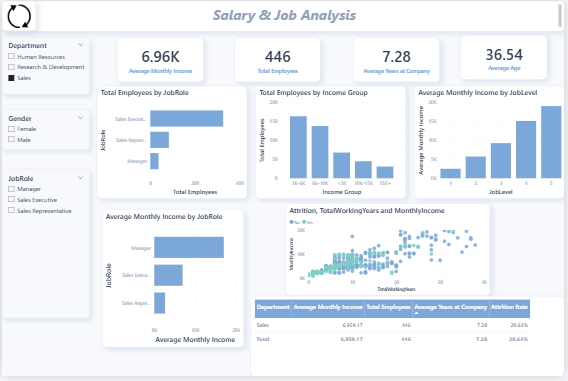

What the dashboard file says about the page in this screenshot:
{"tool":"powerbi","page":{"name":"Salary Analysis","canvas":[1500,1000],"ordinal":1},"visuals":[{"type":"card","fields":{"Values":["HR.Total Employees"]},"box":[619.9,95.3,229.1,119.4],"z":0},{"type":"card","fields":{"Values":["HR.Average Monthly Income"]},"box":[307.5,95.3,230.4,119.4],"z":1000},{"type":"card","fields":{"Values":["HR.Average Years at Company"]},"box":[935.9,95.3,230.4,119.4],"z":2000},{"type":"card","fields":{"Values":["HR.Average Age"]},"box":[1222.9,91.7,230.4,119.4],"z":3000},{"type":"clusteredColumnChart","fields":{"Category":["HR.Income Group"],"Y":["HR.Total Employees"]},"box":[678,226,400,300],"z":4000},{"type":"clusteredBarChart","fields":{"Category":["HR.JobRole"],"Y":["HR.Average Monthly Income"]},"box":[266,556,378,366],"z":5000},{"type":"clusteredColumnChart","fields":{"Category":["HR.JobLevel"],"Y":["HR.Average Monthly Income"]},"box":[1100,228,400,300],"z":6000},{"type":"scatterChart","fields":{"X":["HR.TotalWorkingYears"],"Y":["HR.MonthlyIncome"],"Series":["HR.Attrition"]},"box":[756,540,544,246],"z":7000},{"type":"tableEx","fields":{"Values":["HR.Department","HR.Average Monthly Income","HR.Total Employees","HR.Average Years at Company","HR.Attrition Rate"]},"box":[664,786,836,214],"z":8000},{"type":"clusteredBarChart","fields":{"Category":["HR.JobRole"],"Y":["HR.Total Employees"]},"box":[254.6,226.1,400,300],"z":9000},{"type":"slicer","fields":{"Values":["HR.Department"]},"box":[0,95,233.3,151.7],"z":10000},{"type":"slicer","fields":{"Values":["HR.Gender"]},"box":[0,290,233.3,106.7],"z":11000},{"type":"slicer","fields":{"Values":["HR.JobRole"]},"box":[0,450,233.3,395],"z":12000},{"type":"textbox","box":[0,0,1500.3,80.8],"z":13000},{"type":"image","box":[0,0,90,80],"z":14000}]}

Visuals, with their boxes on the page's 1500x1000 design canvas (x1, y1, x2, y2). These are canvas units, not pixel positions in the 568x381 screenshot, which may show the page scaled, cropped or inside an application window:
card - HR.Total Employees: box(620, 95, 849, 215)
card - HR.Average Monthly Income: box(308, 95, 538, 215)
card - HR.Average Years at Company: box(936, 95, 1166, 215)
card - HR.Average Age: box(1223, 92, 1453, 211)
clusteredColumnChart - HR.Income Group x HR.Total Employees: box(678, 226, 1078, 526)
clusteredBarChart - HR.JobRole x HR.Average Monthly Income: box(266, 556, 644, 922)
clusteredColumnChart - HR.JobLevel x HR.Average Monthly Income: box(1100, 228, 1500, 528)
scatterChart - HR.TotalWorkingYears x HR.MonthlyIncome: box(756, 540, 1300, 786)
tableEx - HR.Department x HR.Average Monthly Income: box(664, 786, 1500, 1000)
clusteredBarChart - HR.JobRole x HR.Total Employees: box(255, 226, 655, 526)
slicer - HR.Department: box(0, 95, 233, 247)
slicer - HR.Gender: box(0, 290, 233, 397)
slicer - HR.JobRole: box(0, 450, 233, 845)
textbox: box(0, 0, 1500, 81)
image: box(0, 0, 90, 80)
